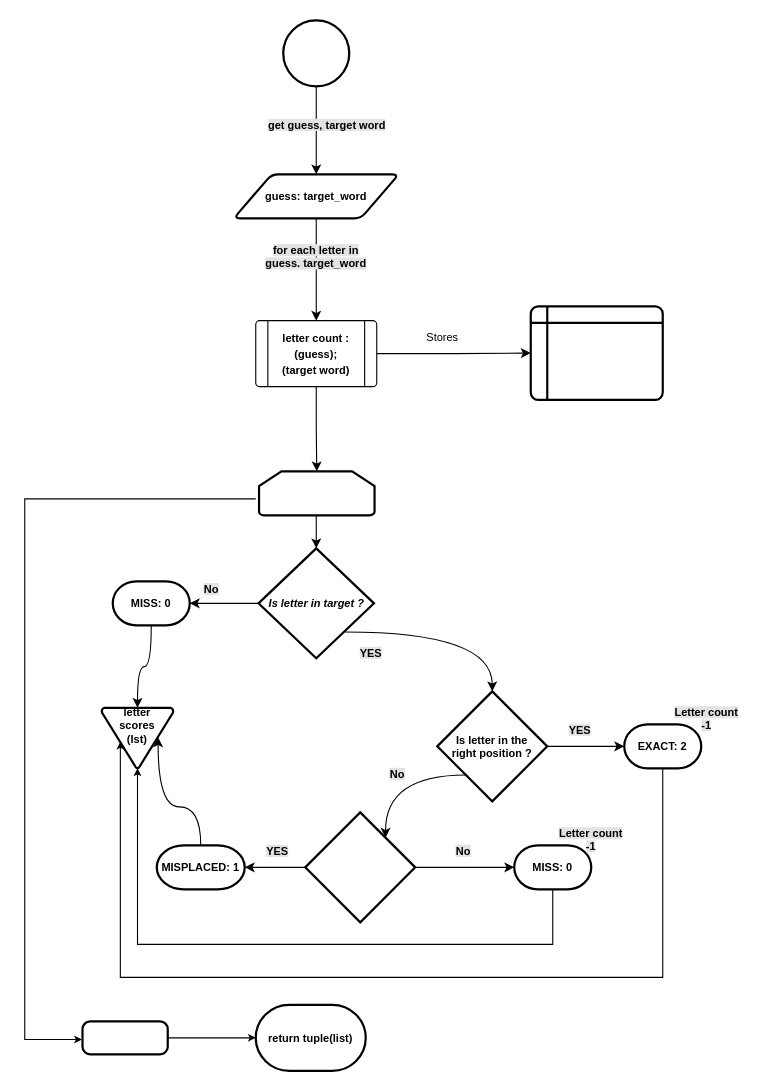
Image size: 759x1090. Some labels were removed from this diagram. The centre of each missing label's shape, as x and y in pixels:
for each letter in guess: point 316,493
Is letter count : guess > target?: point 360,867
letter count: (guess); (target word);: point 596,352
reverse list: point 124,1037
START: point 316,53
